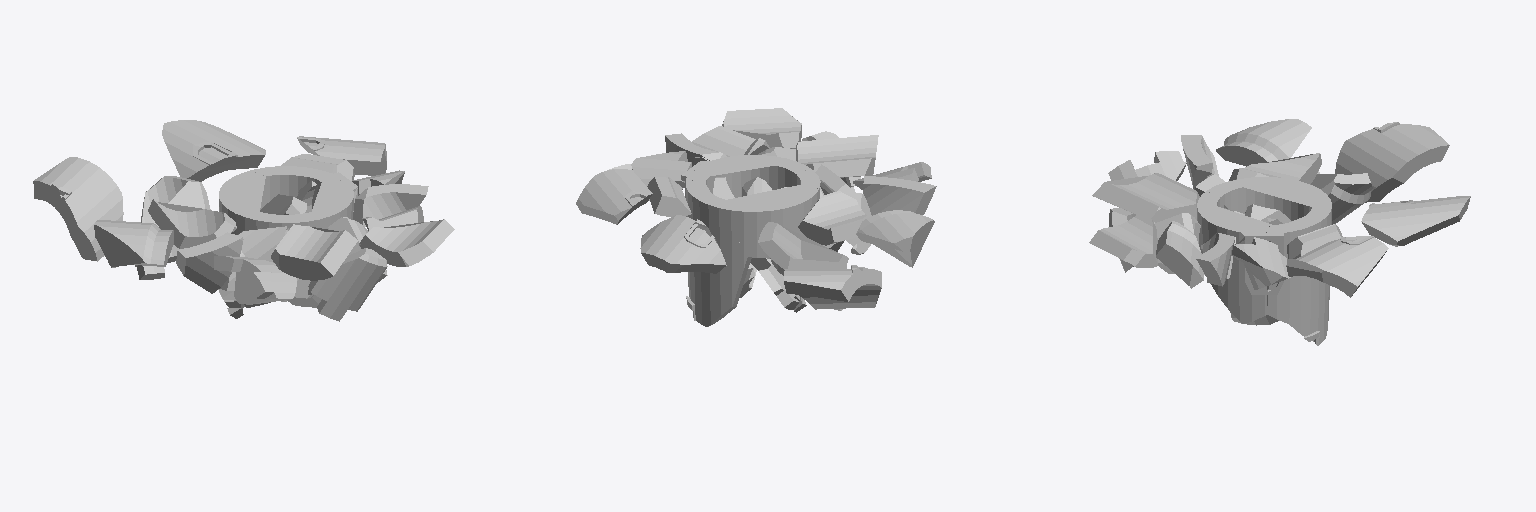
The model's file is destruction_tower_000076.obj.
3 renders of one model, left to right at view 1: azimuth 30°, elevation 25°; view 2: azimuth 150°, elevation 25°; view 3: azimuth 270°, elevation 25°, orthographic.
Parts seen in each view (by area): view 1: tower.001_cell.003_Mesh.003, tower.001_cell.025_Mesh.025, tower.001_cell.024_Mesh.024, tower.001_cell.011_Mesh.011, tower.001_cell.005_Mesh.005, tower.001_cell.021_Mesh.021, tower.001_cell.006_Mesh.006, tower.001_cell.009_Mesh.009, tower.001_cell.002_Mesh.002, tower.001_cell.007_Mesh.007, tower.001_cell.012_Mesh.012, tower.001_cell.010_Mesh.010 (+10 smaller); view 2: tower.001_cell.017_Mesh.017, tower.001_cell.015_Mesh.015, tower.001_cell.025_Mesh.025, tower.001_cell.003_Mesh.003, tower.001_cell.012_Mesh.012, tower.001_cell.005_Mesh.005, tower.001_cell.024_Mesh.024, tower.001_cell.007_Mesh.007, tower.001_cell.028_Mesh.028, tower.001_cell.009_Mesh.009, tower.001_cell.021_Mesh.021, tower.001_cell.002_Mesh.002 (+8 smaller); view 3: tower.001_cell.003_Mesh.003, tower.001_cell.025_Mesh.025, tower.001_cell.012_Mesh.012, tower.001_cell.024_Mesh.024, tower.001_cell.017_Mesh.017, tower.001_cell.005_Mesh.005, tower.001_cell.015_Mesh.015, tower.001_cell.021_Mesh.021, tower.001_cell.020_Mesh.020, tower.001_cell.028_Mesh.028, tower.001_cell_Mesh, tower.001_cell.030_Mesh.030 (+9 smaller).
Boxes of the visible parts, x1=… form: tower.001_cell.003_Mesh.003: x1=33, y1=157, x2=123, y2=261; tower.001_cell.025_Mesh.025: x1=162, y1=120, x2=265, y2=181; tower.001_cell.024_Mesh.024: x1=271, y1=224, x2=357, y2=280; tower.001_cell.011_Mesh.011: x1=308, y1=248, x2=387, y2=321; tower.001_cell.005_Mesh.005: x1=94, y1=220, x2=173, y2=267; tower.001_cell.021_Mesh.021: x1=359, y1=219, x2=454, y2=266; tower.001_cell.006_Mesh.006: x1=214, y1=256, x2=296, y2=304; tower.001_cell.009_Mesh.009: x1=148, y1=199, x2=236, y2=248; tower.001_cell.002_Mesh.002: x1=176, y1=232, x2=243, y2=293; tower.001_cell.007_Mesh.007: x1=135, y1=176, x2=210, y2=279; tower.001_cell.012_Mesh.012: x1=297, y1=136, x2=386, y2=175; tower.001_cell.010_Mesh.010: x1=353, y1=184, x2=428, y2=226; tower.001_cell.017_Mesh.017: x1=686, y1=179, x2=751, y2=326; tower.001_cell.015_Mesh.015: x1=722, y1=185, x2=818, y2=258; tower.001_cell.025_Mesh.025: x1=640, y1=215, x2=726, y2=273; tower.001_cell.003_Mesh.003: x1=784, y1=265, x2=881, y2=309; tower.001_cell.012_Mesh.012: x1=576, y1=164, x2=652, y2=224; tower.001_cell.005_Mesh.005: x1=856, y1=210, x2=934, y2=267; tower.001_cell.024_Mesh.024: x1=796, y1=135, x2=878, y2=177; tower.001_cell.007_Mesh.007: x1=758, y1=222, x2=848, y2=310; tower.001_cell.028_Mesh.028: x1=700, y1=155, x2=809, y2=197; tower.001_cell.009_Mesh.009: x1=798, y1=191, x2=866, y2=245; tower.001_cell.021_Mesh.021: x1=722, y1=108, x2=801, y2=148; tower.001_cell.002_Mesh.002: x1=863, y1=176, x2=936, y2=215; tower.001_cell.003_Mesh.003: x1=1335, y1=122, x2=1449, y2=202; tower.001_cell.025_Mesh.025: x1=1361, y1=196, x2=1470, y2=246; tower.001_cell.012_Mesh.012: x1=1286, y1=236, x2=1388, y2=297; tower.001_cell.024_Mesh.024: x1=1092, y1=173, x2=1199, y2=222; tower.001_cell.017_Mesh.017: x1=1289, y1=204, x2=1331, y2=345; tower.001_cell.005_Mesh.005: x1=1216, y1=119, x2=1311, y2=166; tower.001_cell.015_Mesh.015: x1=1243, y1=177, x2=1331, y2=220; tower.001_cell.021_Mesh.021: x1=1089, y1=212, x2=1157, y2=267; tower.001_cell.020_Mesh.020: x1=1211, y1=231, x2=1270, y2=323; tower.001_cell.028_Mesh.028: x1=1197, y1=192, x2=1271, y2=253; tower.001_cell_Mesh: x1=1156, y1=221, x2=1204, y2=288; tower.001_cell.030_Mesh.030: x1=1232, y1=237, x2=1290, y2=289.
Size of the model in its own units: 112 by 44.48 by 121.